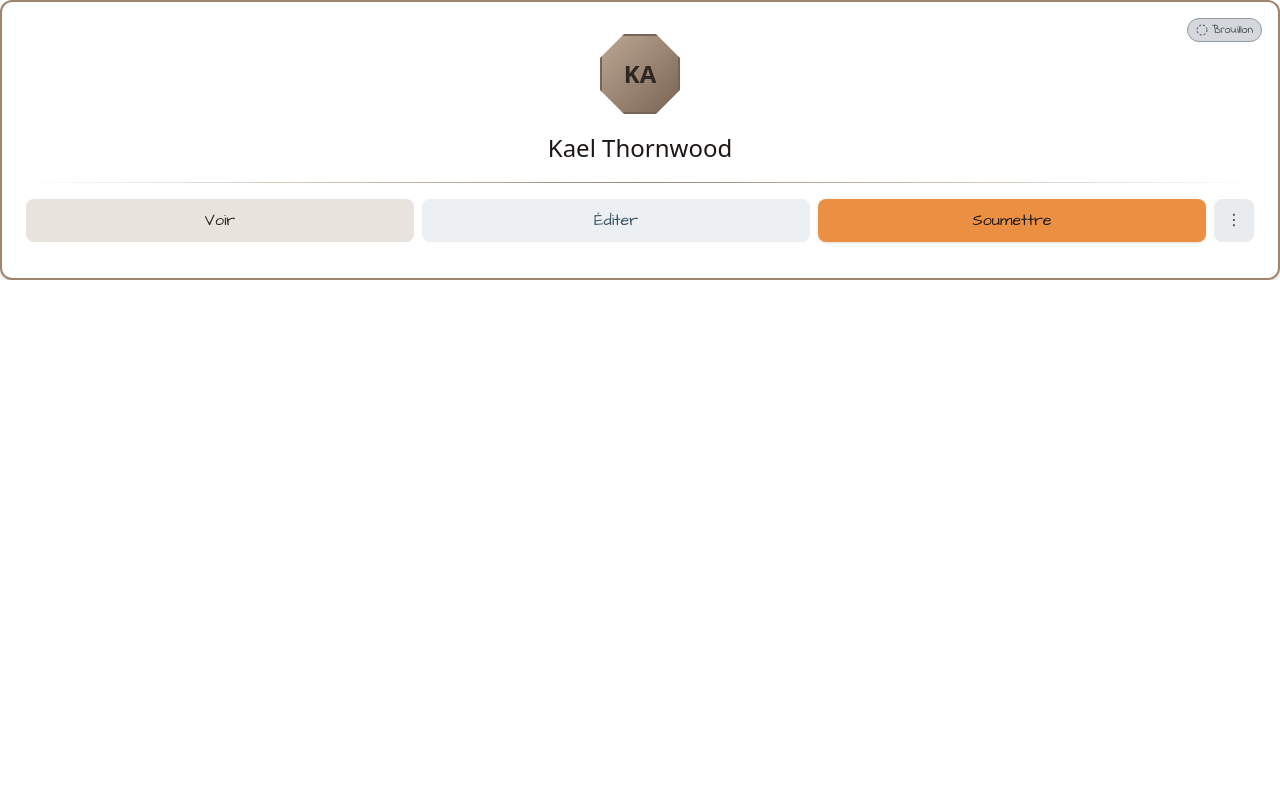
Test: CharacterCard — menu "⋮" (plus d'actions) › ferme le menu quand on clique sur le backdrop
The image size is (1280, 800).
Open the menu via fireEvent (simpler for backdrop test)
Click the button named "plus d'actions" at (1234, 221), box [1214,199,1254,242]
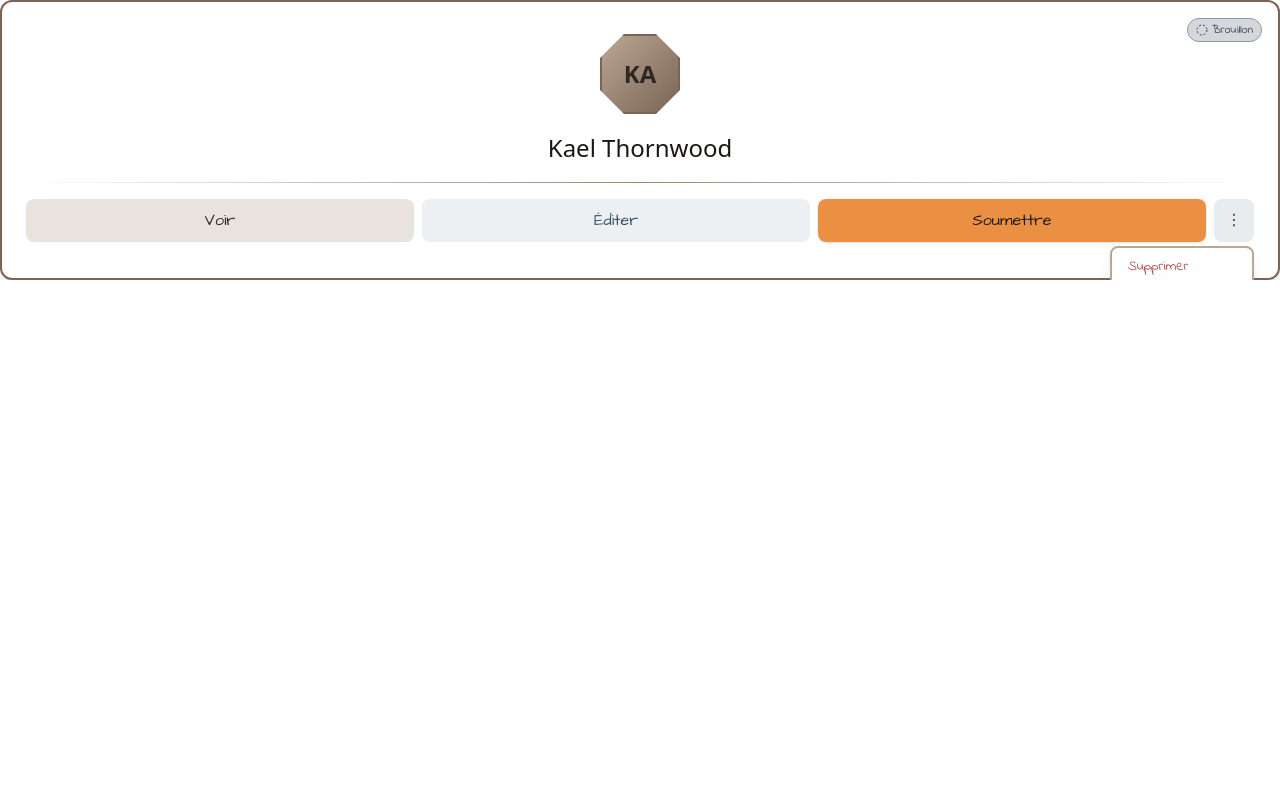
Expected: the button "Supprimer" is shown, [1112,248,1252,285]
Expected: the element with class "inset-0" is shown
Click the element with class "inset-0" at (640, 400), box [0,0,1279,799]
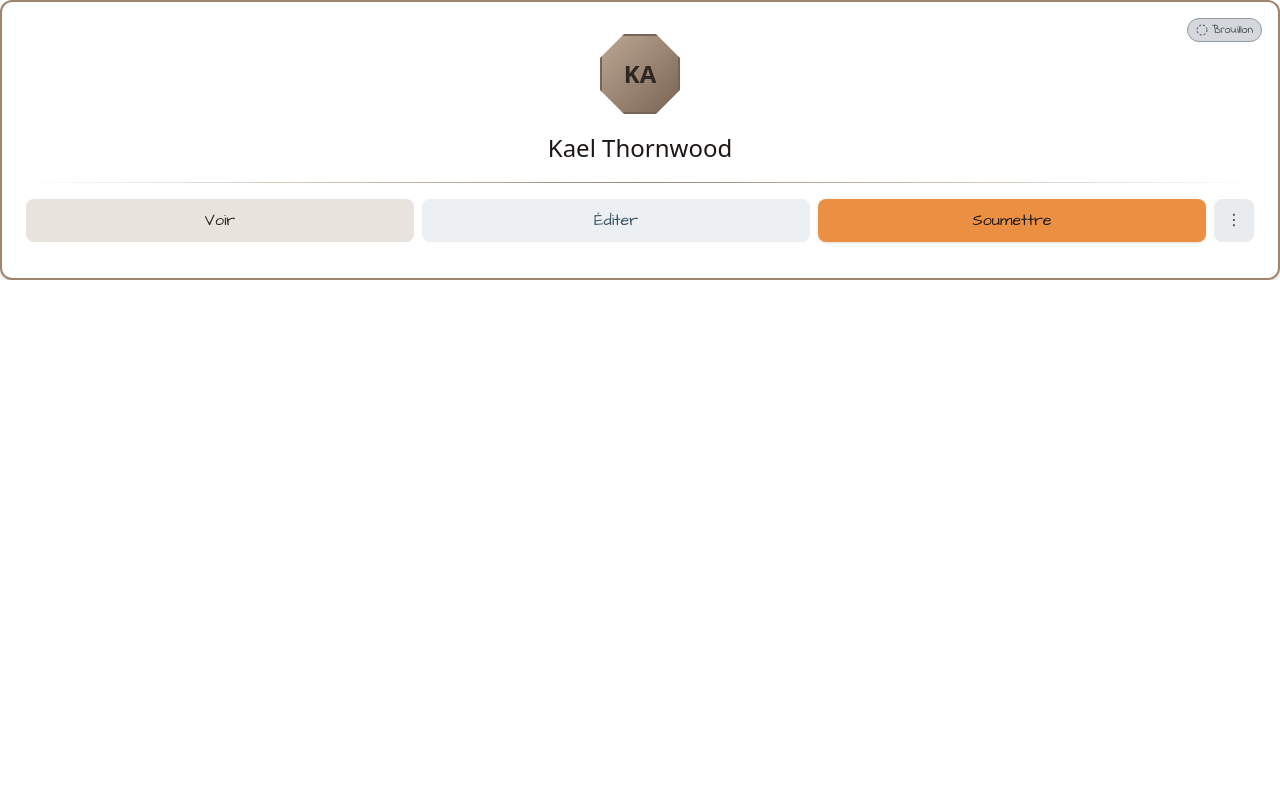
Expected: the button "Supprimer" is gone
